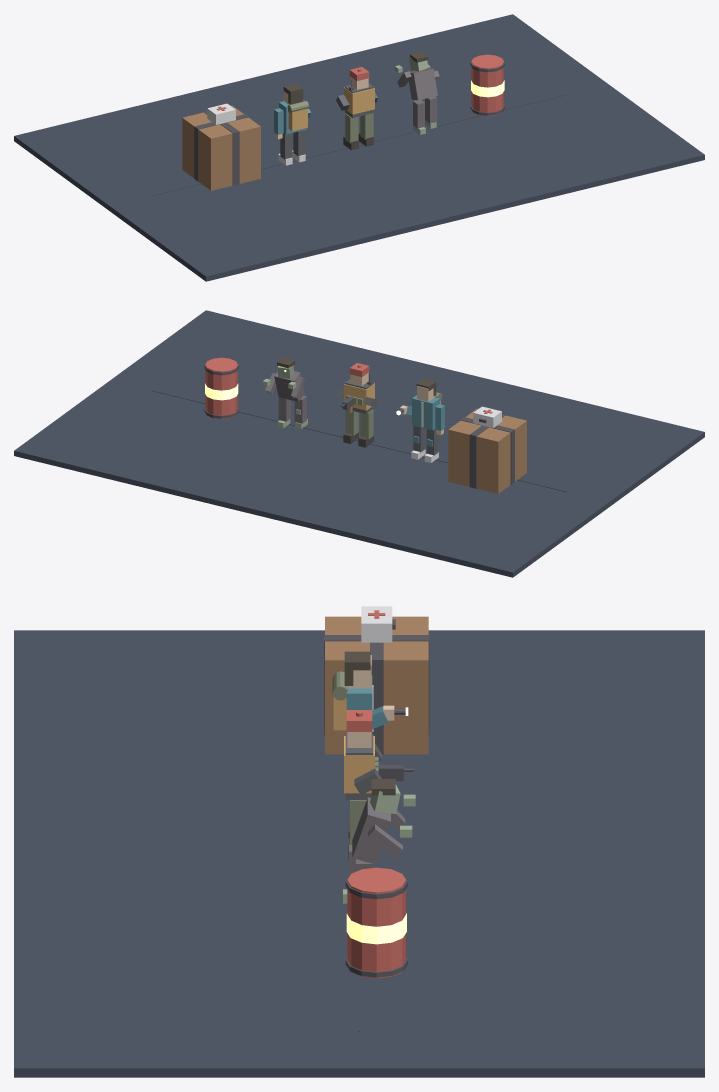
The model's file is character_catalog_lineup.glb.
The picture shows the model from 3 angles, top to bottom: view 1: azimuth 30°, elevation 25°; view 2: azimuth 150°, elevation 25°; view 3: azimuth 270°, elevation 25°; orthographic projection. The views are drawn at different scales.
Parts seen in each view (by area): view 1: Studio_Pedestal, Character_Lineup_Group; view 2: Studio_Pedestal, Character_Lineup_Group; view 3: Studio_Pedestal, Character_Lineup_Group.
Part boxes in pixels (left/top/right/bottom): Studio_Pedestal: left=14, top=14, right=704, bottom=281; Character_Lineup_Group: left=182, top=51, right=504, bottom=190; Studio_Pedestal: left=14, top=310, right=704, bottom=577; Character_Lineup_Group: left=204, top=357, right=526, bottom=493; Studio_Pedestal: left=14, top=630, right=704, bottom=1077; Character_Lineup_Group: left=324, top=606, right=429, bottom=978.
Bounding box in the file's own units: 12 × 1.87 × 8.
